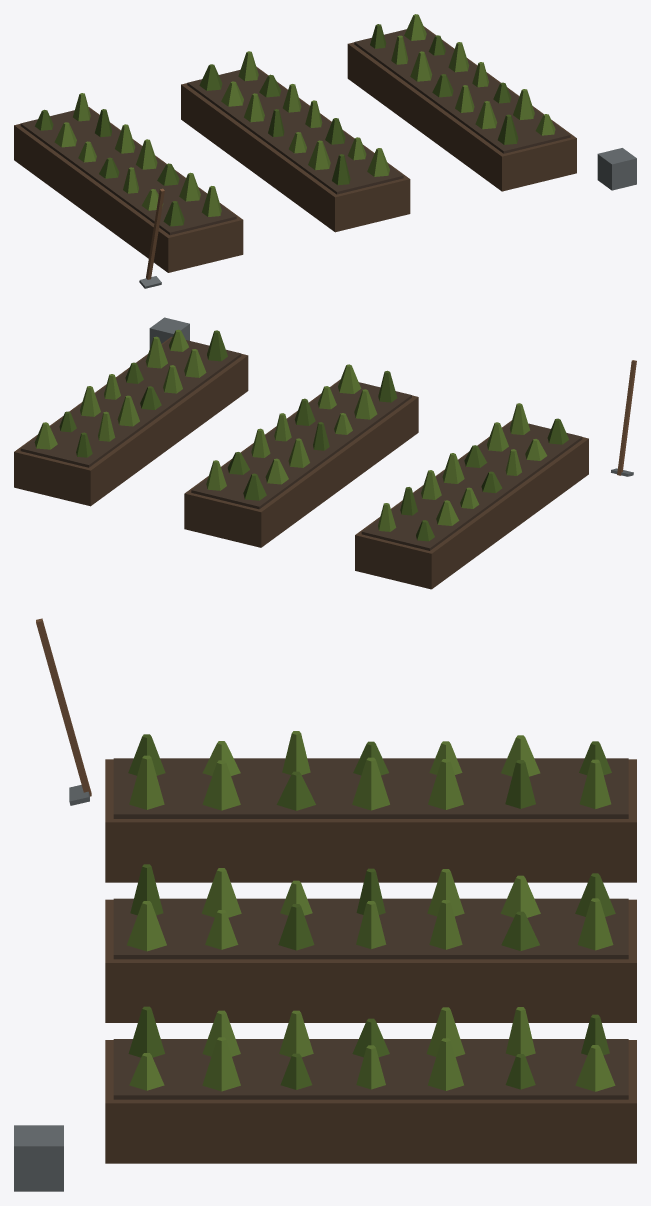
Rendered from room_farm_1.glb.
3 views of the same model, one above another, from view 1: azimuth 30°, elevation 25°; view 2: azimuth 150°, elevation 25°; view 3: azimuth 270°, elevation 25° (orthographic). The views are drawn at different scales.
Visible parts, largest first — view 1: room_farm_1; view 2: room_farm_1; view 3: room_farm_1.
Part boxes in pixels (bbox=[...]): room_farm_1: bbox=[14, 14, 636, 288]; room_farm_1: bbox=[14, 317, 636, 589]; room_farm_1: bbox=[14, 618, 636, 1191].
Bounding box in the file's own units: 5.7 × 1.19 × 3.75.
